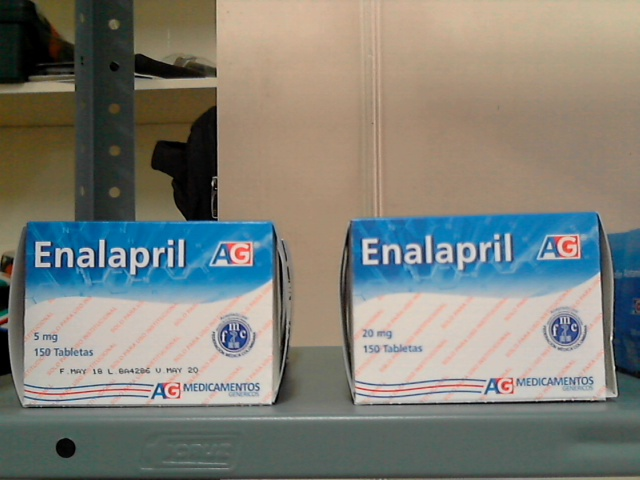AG: (354, 218, 604, 399), (26, 223, 274, 405)
